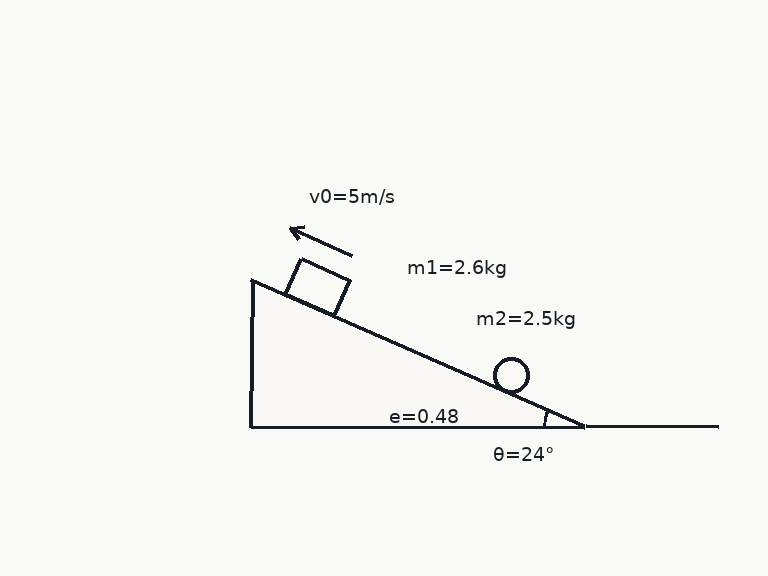ball: (491, 355, 531, 395)
block: (282, 256, 351, 317)
ramp: (249, 277, 586, 429)
